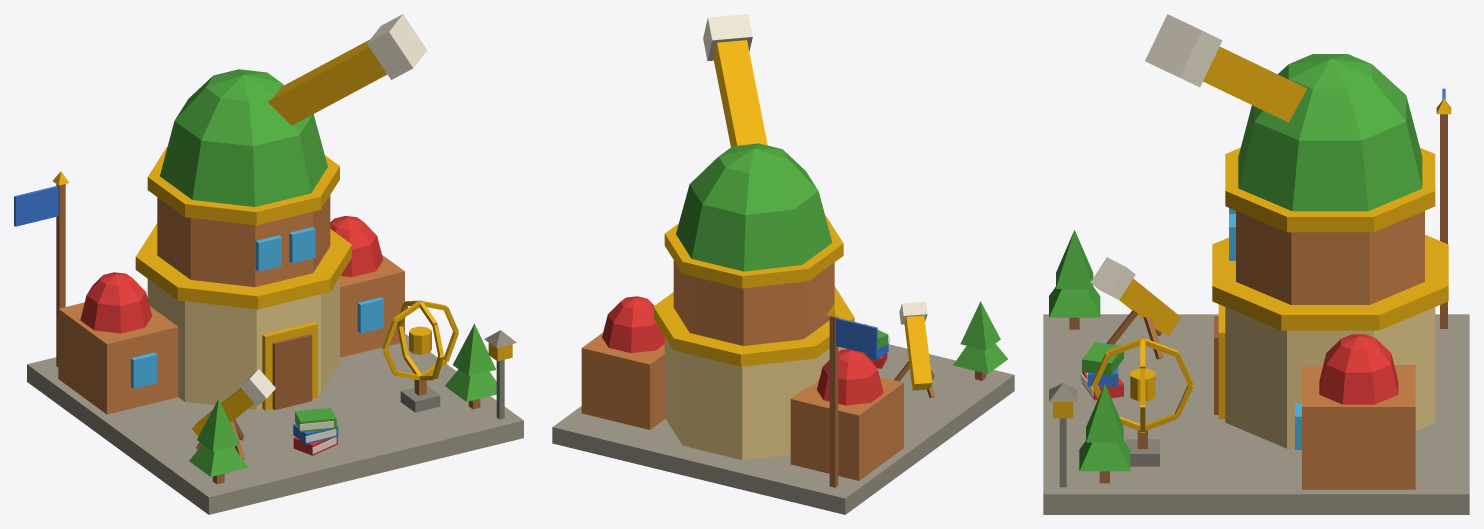
File: observatory_t3_v2.glb
The picture shows the model from 3 angles, left to right: view 1: azimuth 30°, elevation 25°; view 2: azimuth 150°, elevation 25°; view 3: azimuth 270°, elevation 25°; orthographic projection. The views are drawn at different scales.
Parts seen in each view (by area): view 1: observatory_t3_v2; view 2: observatory_t3_v2; view 3: observatory_t3_v2.
Boxes of the visible parts, x1,y1,x2,y2 form: observatory_t3_v2: [14, 14, 523, 514]; observatory_t3_v2: [552, 14, 1014, 514]; observatory_t3_v2: [1043, 14, 1469, 514].
Size of the model in its own units: 0.805 by 0.8816 by 0.75.
Materials: 1 (1 with a texture image).
